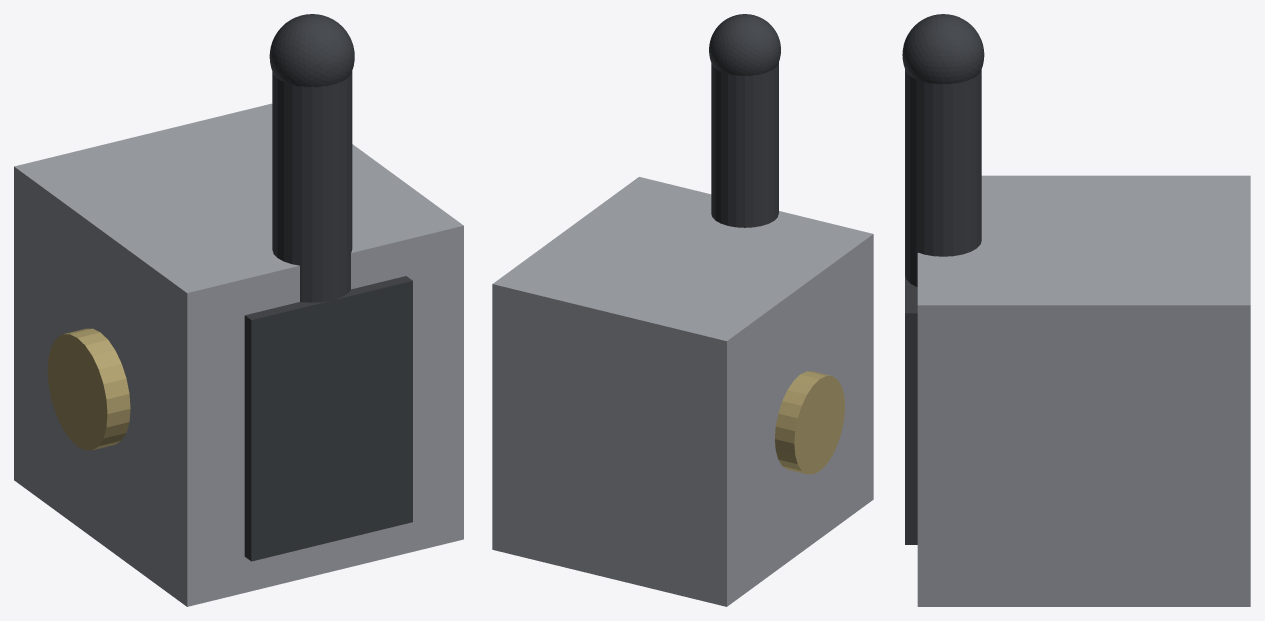
The model's file is howitzer_breech.glb.
3 views of the same model, side by side, from view 1: azimuth 30°, elevation 25°; view 2: azimuth 150°, elevation 25°; view 3: azimuth 270°, elevation 25° (orthographic). The views are drawn at different scales.
Visible parts, largest first — view 1: geometry_0; view 2: geometry_0; view 3: geometry_0.
Part boxes in pixels (left/top/right/bottom): geometry_0: left=14, top=14, right=463, bottom=606; geometry_0: left=492, top=14, right=873, bottom=606; geometry_0: left=902, top=14, right=1250, bottom=606.
Bounding box in the file's own units: 2.6 × 4.52 × 2.72.
